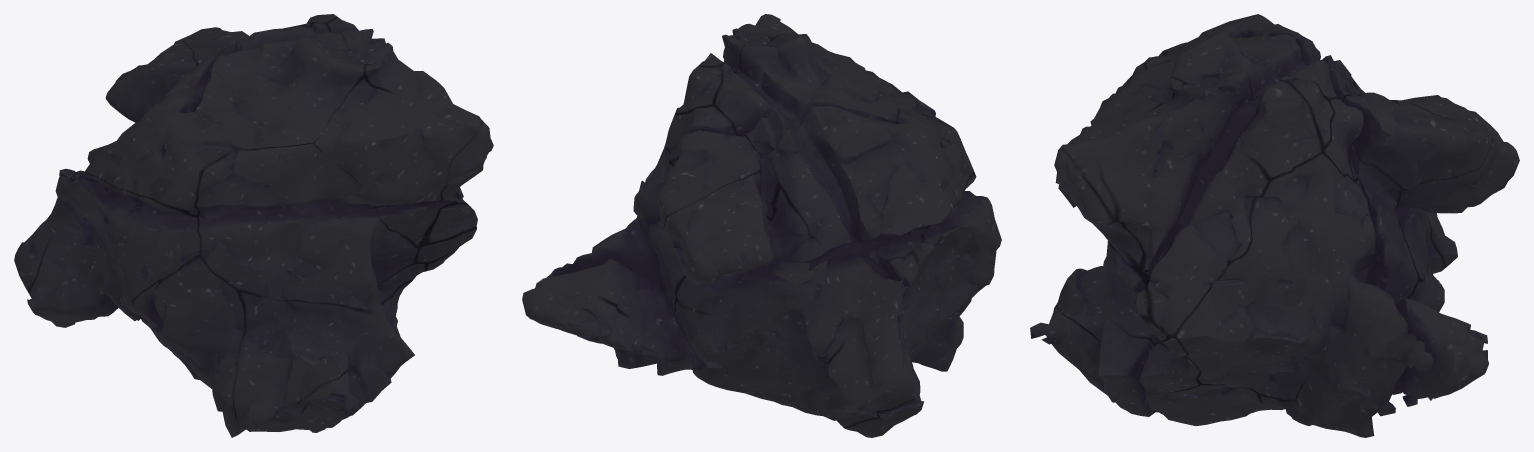
Rendered from rock-large-jagged.glb.
3 renders of one model, left to right at view 1: azimuth 30°, elevation 25°; view 2: azimuth 150°, elevation 25°; view 3: azimuth 270°, elevation 25°, orthographic. The views are drawn at different scales.
Visible parts, largest first — view 1: Rock_A_LargeJagged; view 2: Rock_A_LargeJagged; view 3: Rock_A_LargeJagged.
Boxes of the visible parts, box(x1,y1,x2,y2) form: Rock_A_LargeJagged: box(14, 14, 493, 437); Rock_A_LargeJagged: box(522, 14, 1001, 437); Rock_A_LargeJagged: box(1030, 14, 1519, 437).
Size of the model in its own units: 1.97 by 1.91 by 2.06.
1 material, 1 textured.
